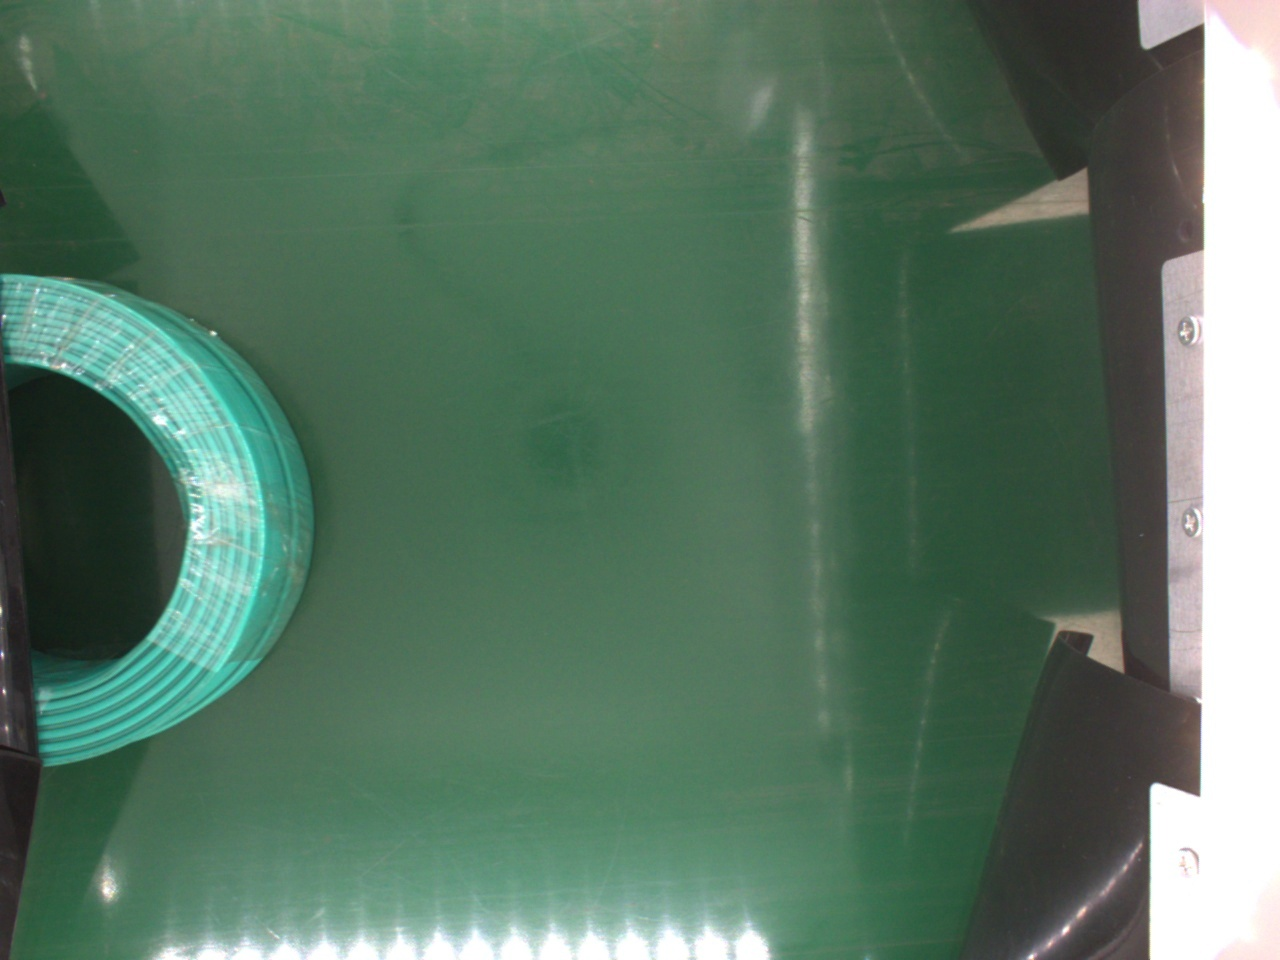green: (3, 271, 321, 772)
